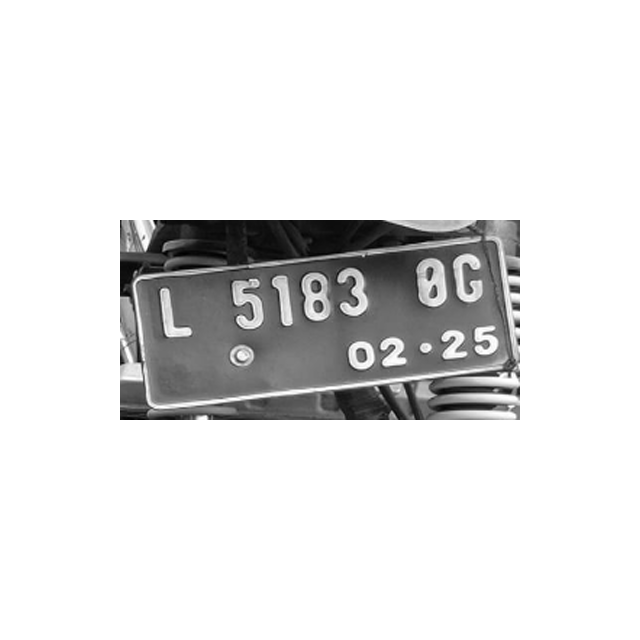contain: (223, 270, 263, 333), (155, 283, 195, 344), (451, 245, 492, 304), (334, 259, 372, 318), (412, 252, 449, 310), (298, 267, 332, 327), (266, 267, 297, 328)
